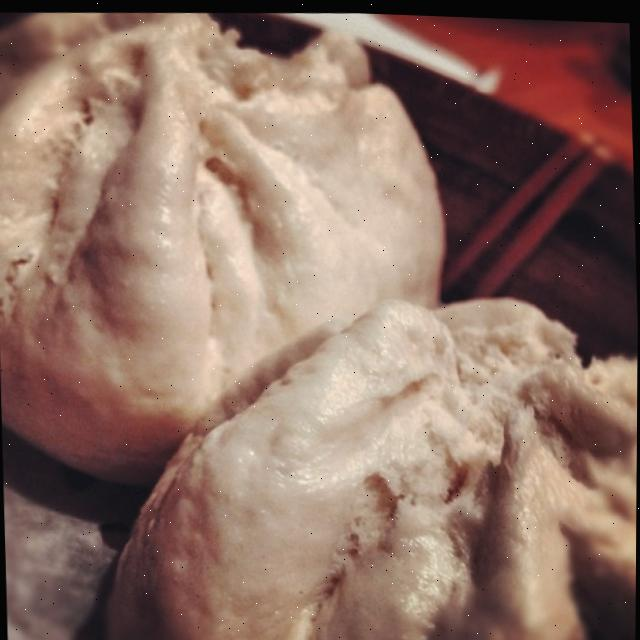带馅早点: (0, 5, 629, 640)
